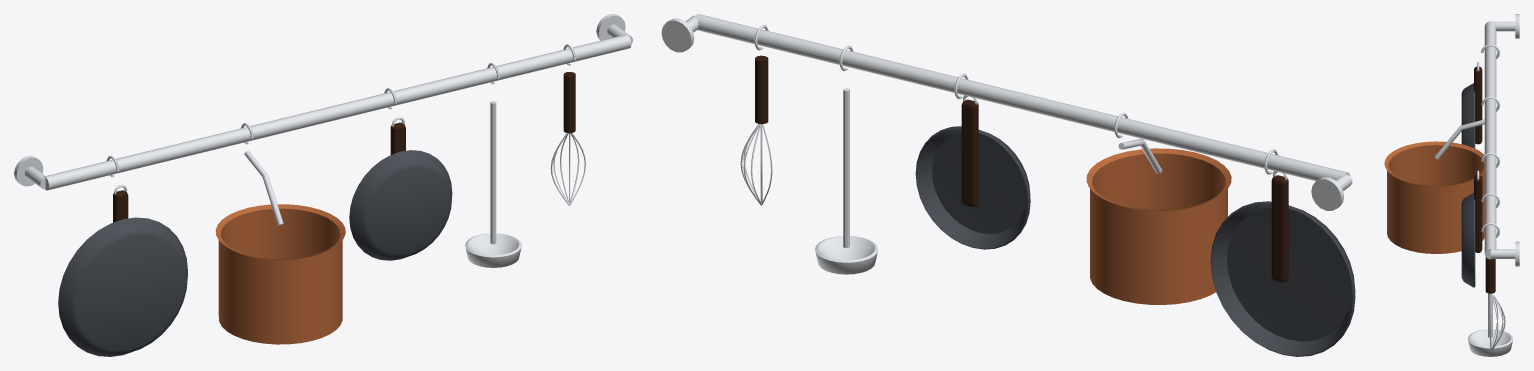
File: PotRail.glb
The picture shows the model from 3 angles, left to right: view 1: azimuth 30°, elevation 25°; view 2: azimuth 150°, elevation 25°; view 3: azimuth 270°, elevation 25°; orthographic projection. The views are drawn at different scales.
Parts seen in each view (by area): view 1: PotRail_Pot_-20, PotRail_Pan_-50, PotRail, PotRail_Body; view 2: PotRail_Pot_-20, PotRail_Pan_-50, PotRail, PotRail_Body; view 3: PotRail_Pot_-20, PotRail_Body, PotRail, PotRail_Pan_-50.
Part boxes in pixels (<box>): PotRail_Pot_-20: <box>215,150,345,344</box>; PotRail_Pan_-50: <box>58,184,187,356</box>; PotRail: <box>349,72,585,267</box>; PotRail_Body: <box>14,14,632,190</box>; PotRail_Pot_-20: <box>1086,139,1231,304</box>; PotRail_Pan_-50: <box>1210,171,1355,356</box>; PotRail: <box>740,55,1030,274</box>; PotRail_Body: <box>661,14,1352,210</box>; PotRail_Pot_-20: <box>1384,119,1484,253</box>; PotRail_Body: <box>1481,14,1519,266</box>; PotRail: <box>1461,170,1513,356</box>; PotRail_Pan_-50: <box>1461,62,1482,148</box>.
Bounding box in the file's own units: 1.36 × 0.44 × 0.326.
